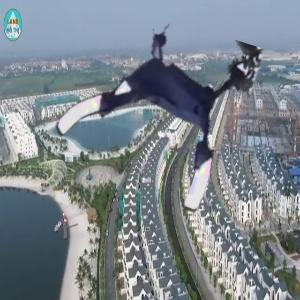drone: (64, 19, 245, 200)
